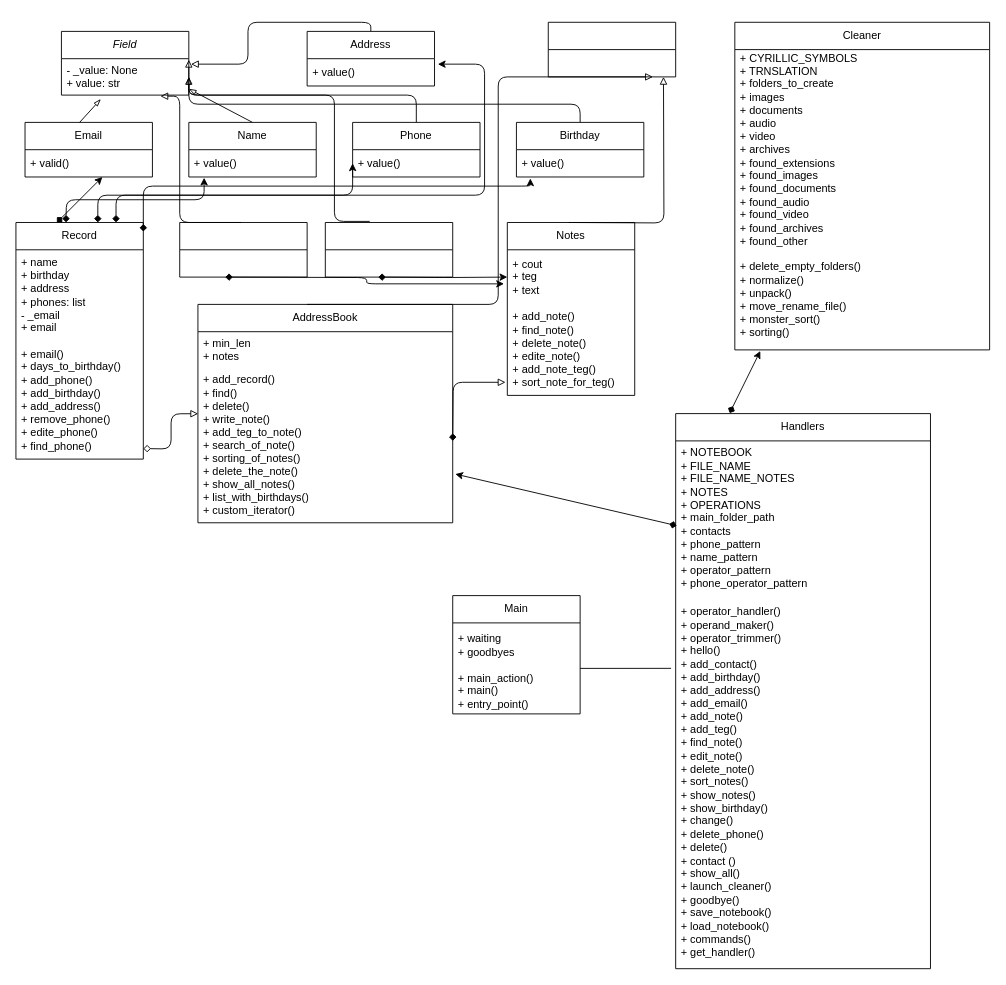
The diagram is 1006 pixels wide and 985 high, and some of its shapes have lost their labels. The centre of each missing label's shape, as x and y in pixels:
BodyOfNote: point (388, 249)
TegNote: point (243, 249)
UserDtct: point (611, 49)
